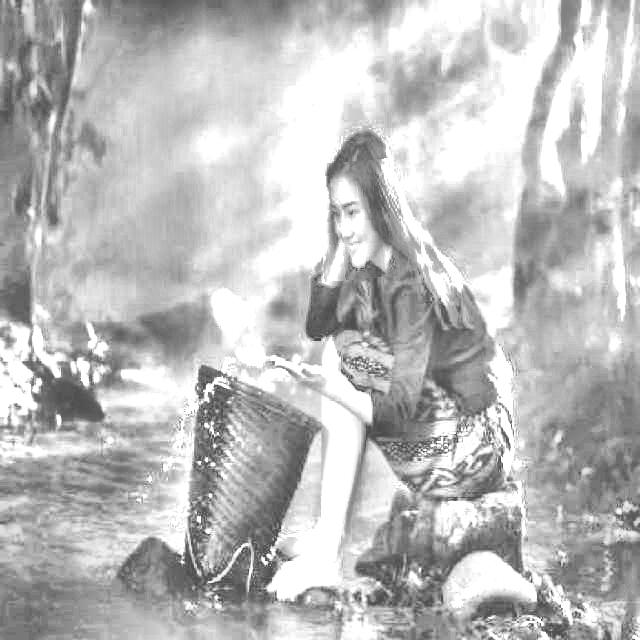happy: (318, 159, 398, 281)
